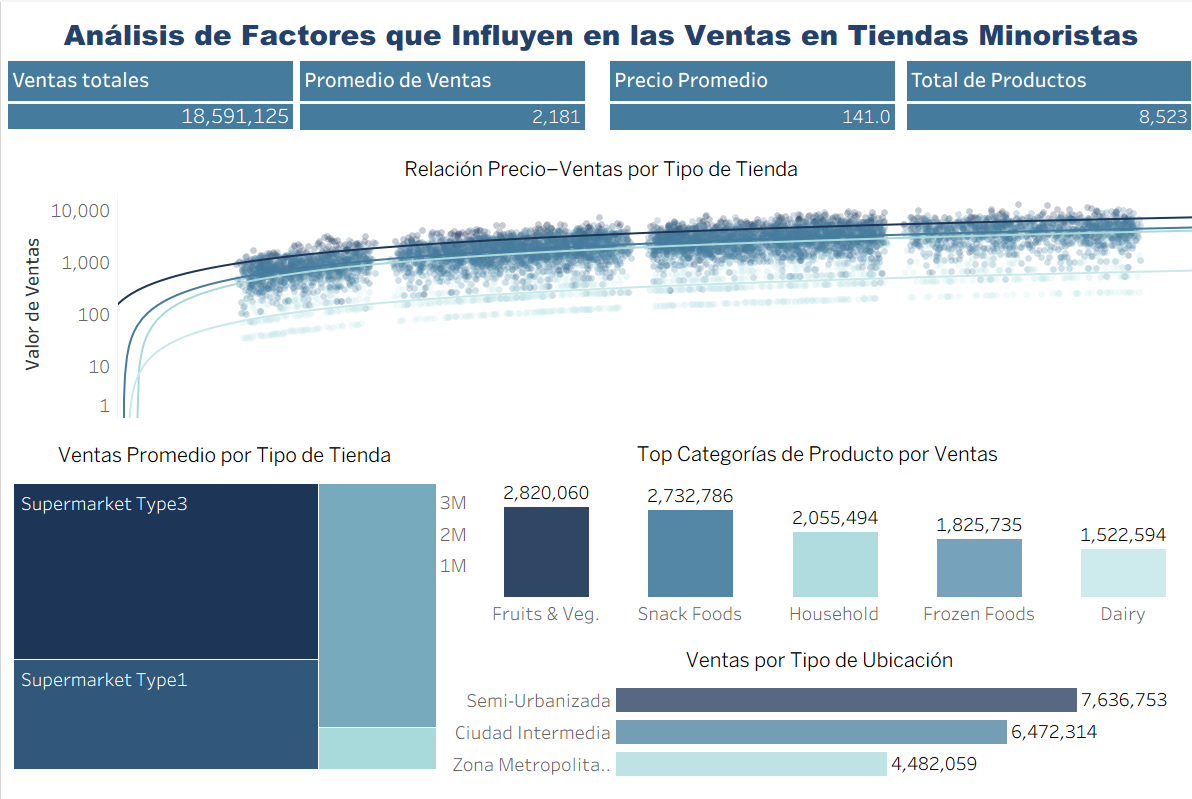

What the dashboard file says about the page in this screenshot:
{"tool":"tableau","page":{"name":"Dashboard 1","canvas":[1200,800],"ordinal":0},"visuals":[{"type":"text","box":[8,8,1184,48]},{"type":"worksheet","title":"Hoja 5","mark":"Automatic","box":[7,59,285,90]},{"type":"worksheet","title":"Hoja 6","mark":"Automatic","box":[299,59,285,90]},{"type":"worksheet","title":"Hoja 7","mark":"Automatic","box":[609,59,285,90]},{"type":"worksheet","title":"Hoja 8","mark":"Automatic","box":[906,59,285,90]},{"type":"worksheet","title":"Hoja 1","mark":"Automatic","rows":["Item_Outlet_Sales"],"cols":["Item_MRP"],"box":[11,150,1183,266]},{"type":"worksheet","title":"Hoja 3","mark":"Automatic","rows":["Item_Outlet_Sales"],"cols":["Item_Type"],"box":[438,435,757,200]},{"type":"worksheet","title":"Hoja 2","mark":"Automatic","box":[8,436,431,335]},{"type":"worksheet","title":"Hoja 4","mark":"Automatic","rows":["Outlet_Location_Type"],"cols":["Item_Outlet_Sales"],"box":[443,641,751,155]}]}

Visuals, with their boxes in screenshot pixels (x1, y1, x2, y2), scaled from the page's 1200x800 canvas onto the 1192x799 screenshot:
text: 8, 8, 1184, 56
"Hoja 5" worksheet: 7, 59, 290, 149
"Hoja 6" worksheet: 297, 59, 580, 149
"Hoja 7" worksheet: 605, 59, 888, 149
"Hoja 8" worksheet: 900, 59, 1183, 149
"Hoja 1" worksheet: 11, 150, 1186, 415
"Hoja 3" worksheet: 435, 434, 1187, 634
"Hoja 2" worksheet: 8, 435, 436, 770
"Hoja 4" worksheet: 440, 640, 1186, 795
